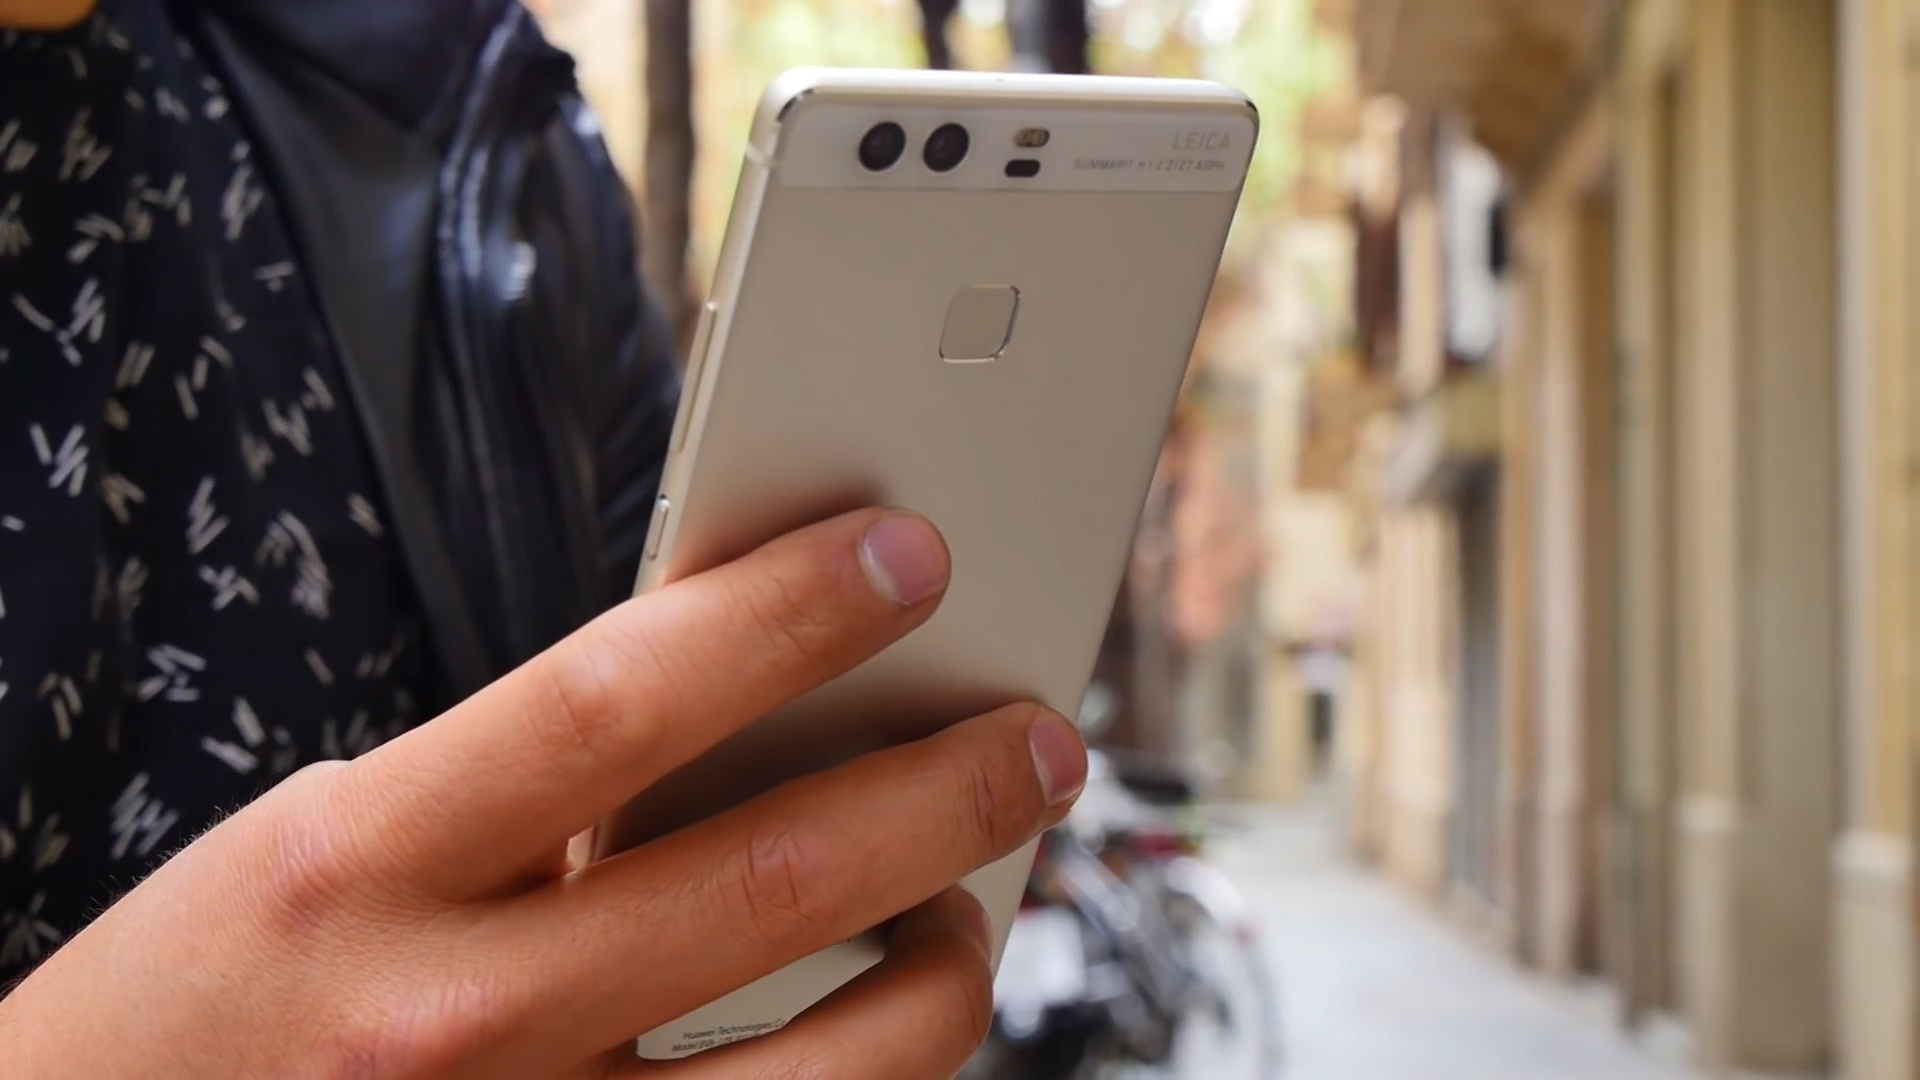smartphone: (556, 59, 1263, 1080)
